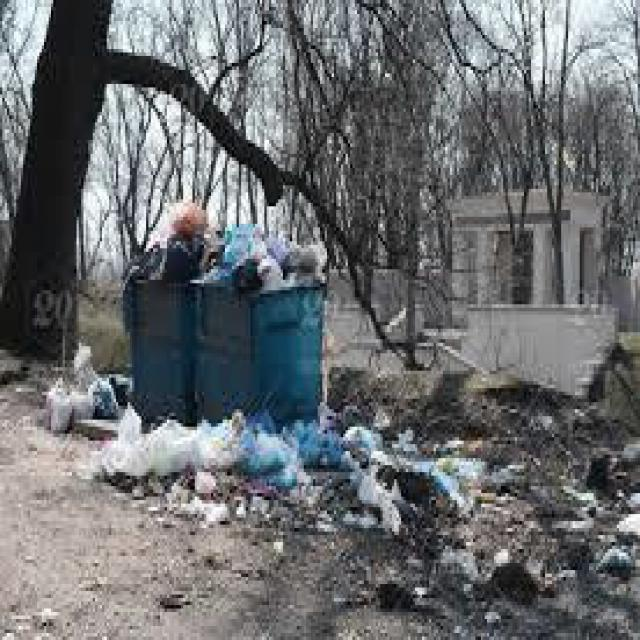garbage: (49, 364, 512, 580), (128, 199, 336, 301)
